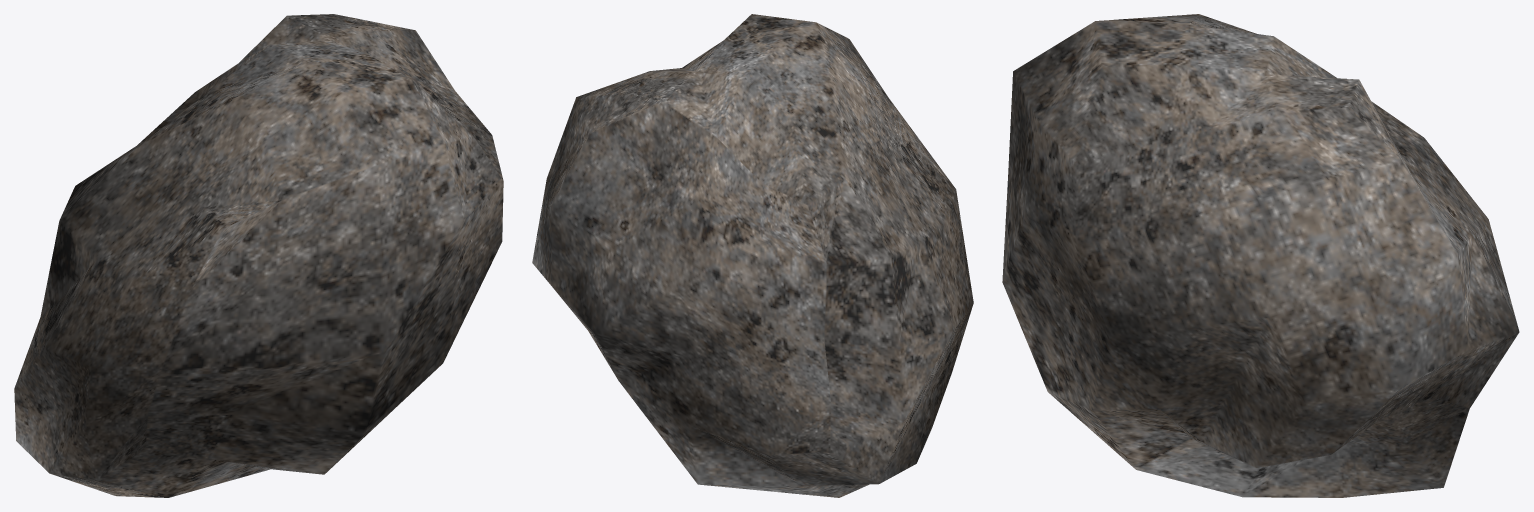
Rendered from rock5.fbx.
3 views of the same model, side by side, from view 1: azimuth 30°, elevation 25°; view 2: azimuth 150°, elevation 25°; view 3: azimuth 270°, elevation 25° (orthographic). The views are drawn at different scales.
Visible parts, largest first — view 1: Cube.005; view 2: Cube.005; view 3: Cube.005.
Part boxes in pixels (bbox=[...]): Cube.005: bbox=[14, 14, 503, 497]; Cube.005: bbox=[532, 14, 973, 497]; Cube.005: bbox=[1002, 14, 1519, 497].
Size of the model in its own units: 259 by 253 by 234.
1 material, 1 textured.
